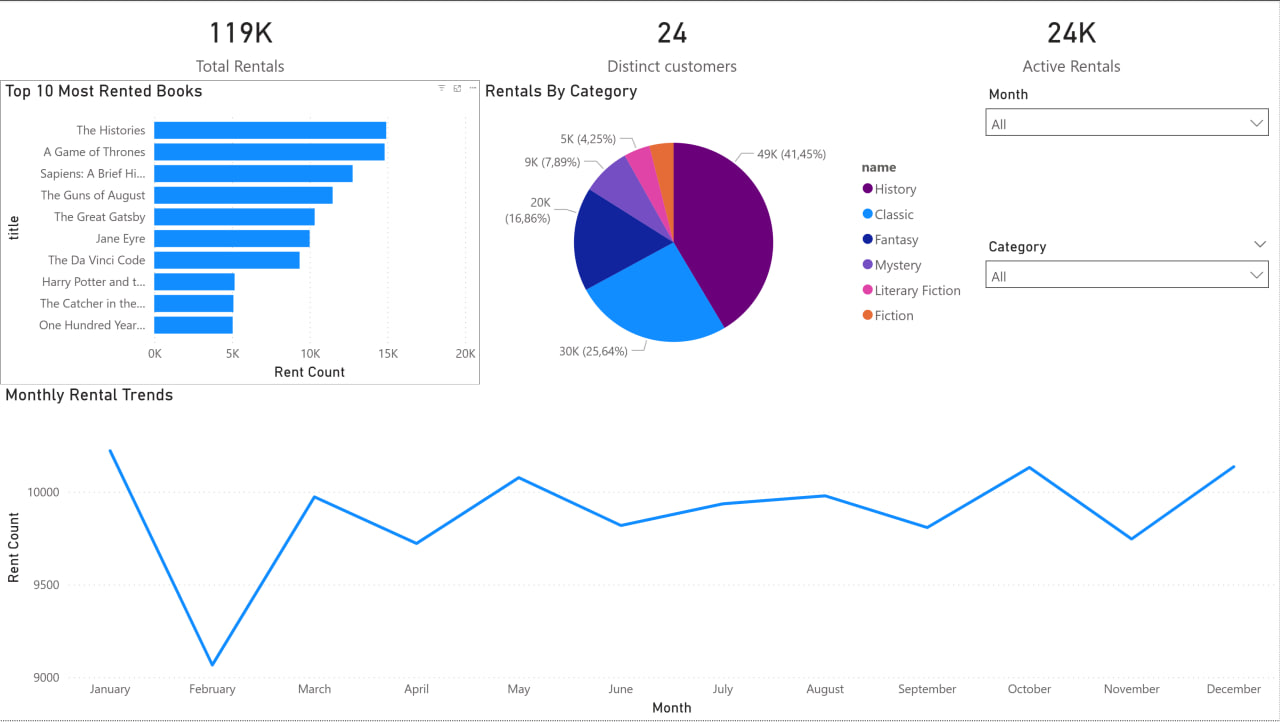

The dashboard page shown, as its layout file describes it:
{"tool":"powerbi","page":{"name":"Overview","canvas":[1280,720],"ordinal":0},"visuals":[{"type":"card","fields":{"Values":["public rentals.Total Rentals"]},"box":[0,0,480,80],"z":0},{"type":"card","fields":{"Values":["public members.Customers per Month"]},"box":[480,0,384,80],"z":1000},{"type":"card","fields":{"Values":["public rentals.Active Rentals"]},"box":[864,0,416,80],"z":2000},{"type":"barChart","title":"Top 10 Most Rented Books","fields":{"Category":["public books.title"],"Y":["public rentals.Rent Count"]},"box":[0,80,480,304],"z":3000},{"type":"lineChart","title":"Monthly Rental Trends","fields":{"Category":["public rentals.rental_date.Variation.Date Hierarchy.Month"],"Y":["public rentals.Rent Count"]},"box":[0,384,1280,336],"z":4000},{"type":"pieChart","title":"Rentals By Category","fields":{"Category":["public categories.name"],"Y":["public rentals.Rent Count"]},"box":[480,80,496,304],"z":5000},{"type":"slicer","fields":{"Values":["public rentals.rental_date.Variation.Date Hierarchy.Month"]},"box":[976.3,80.1,303.5,151.8],"z":6000},{"type":"slicer","fields":{"Values":["public categories.name"]},"box":[976.3,231.9,303.5,152.4],"z":7000}]}

Visuals, with their boxes in screenshot pixels (x1, y1, x2, y2), scaled from the page's 1280x720 canvas onto the 1280x722 screenshot:
card - public rentals.Total Rentals: rect(0, 0, 480, 80)
card - public members.Customers per Month: rect(480, 0, 864, 80)
card - public rentals.Active Rentals: rect(864, 0, 1279, 80)
"Top 10 Most Rented Books" barChart: rect(0, 80, 480, 385)
"Monthly Rental Trends" lineChart: rect(0, 385, 1279, 721)
"Rentals By Category" pieChart: rect(480, 80, 976, 385)
slicer - public rentals.rental_date.Variation.Date Hierarchy.Month: rect(976, 80, 1279, 233)
slicer - public categories.name: rect(976, 233, 1279, 385)
